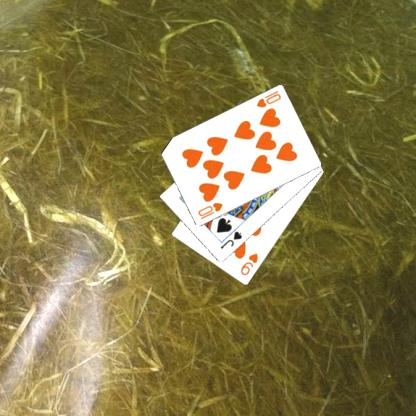10H: (253, 88, 282, 110), (195, 200, 224, 221)
9H: (238, 251, 259, 277)
JS: (217, 228, 243, 250)
